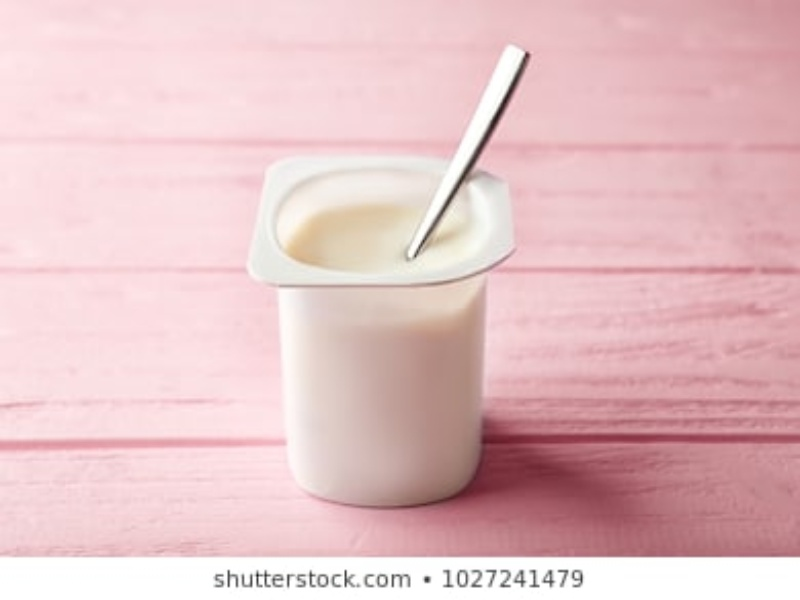yogurt-cup: (243, 145, 522, 512)
